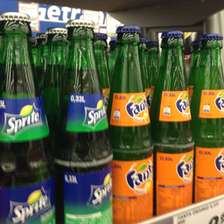soda: (54, 19, 114, 224), (1, 11, 55, 224), (108, 25, 155, 224), (152, 30, 195, 215), (192, 33, 224, 203)
